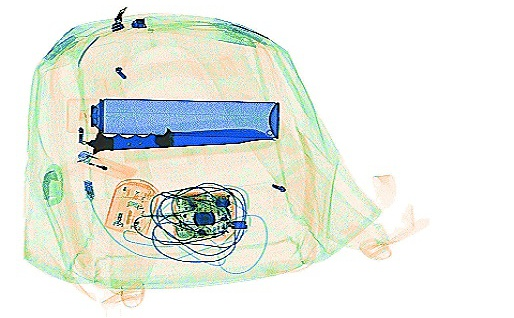knife: (81, 124, 275, 155)
lighter: (75, 148, 138, 179)
pressure: (63, 96, 279, 138)
